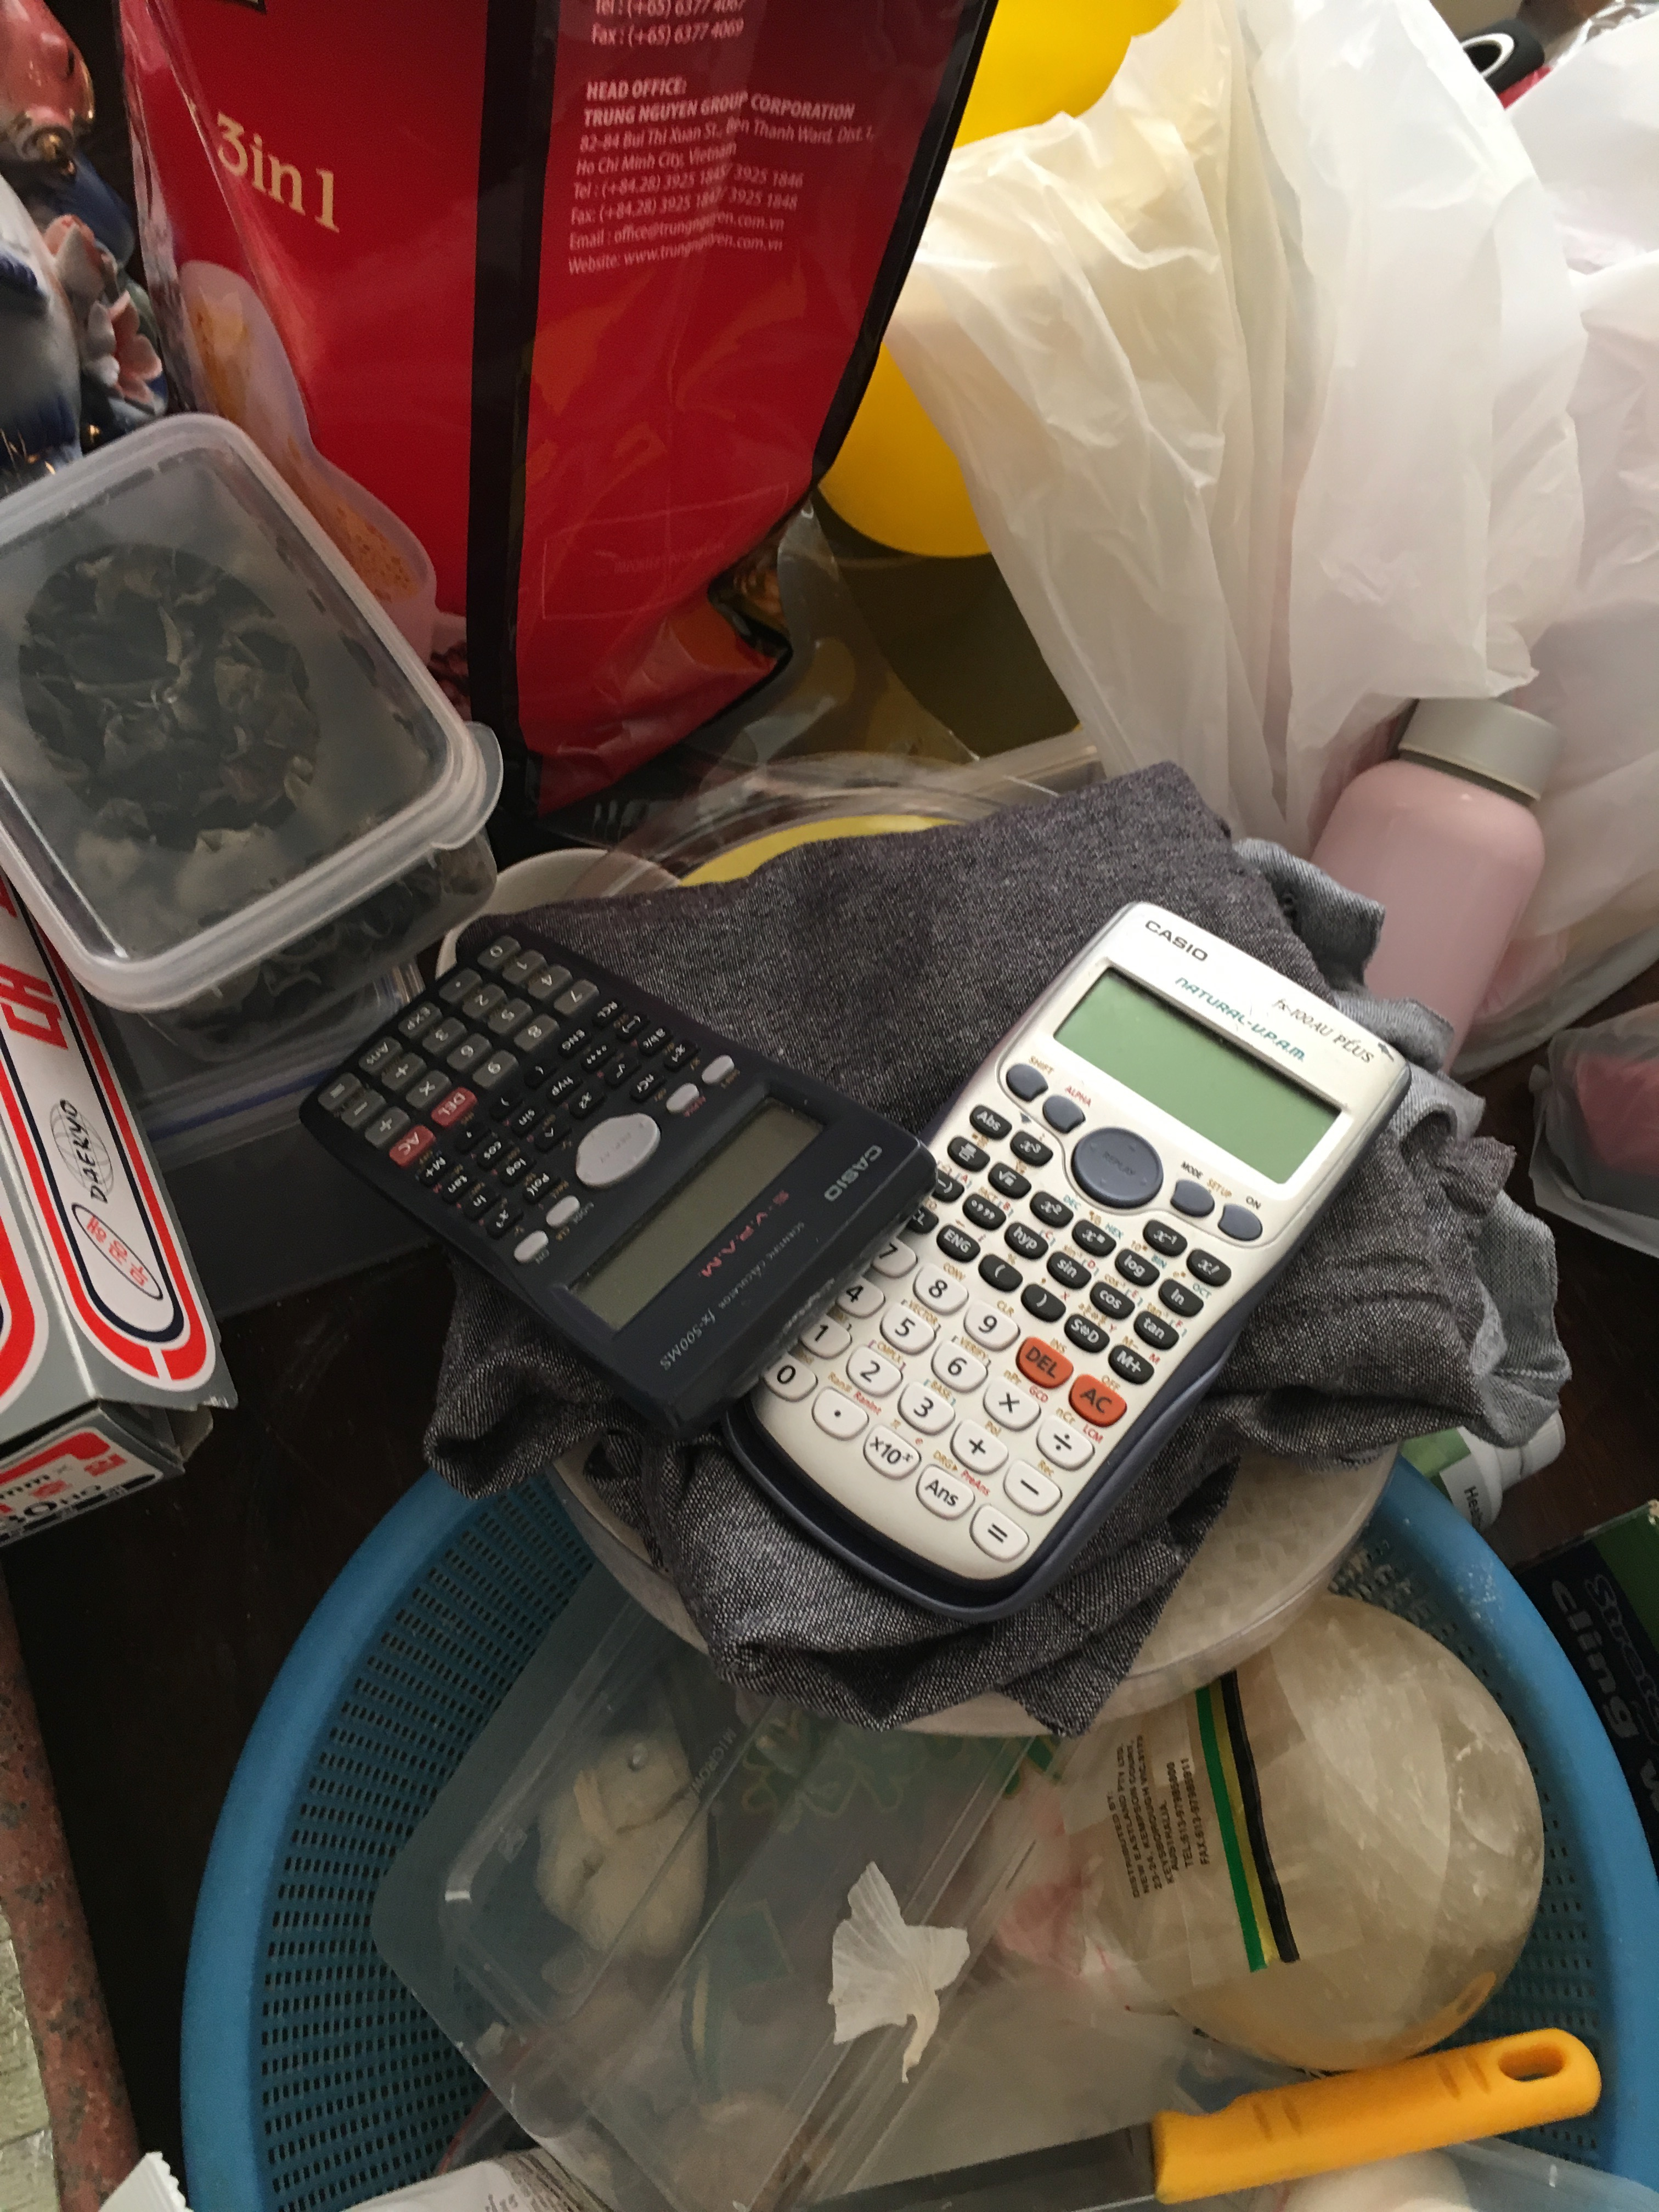Calculator: (727, 888, 1424, 1641), (281, 927, 938, 1444)
